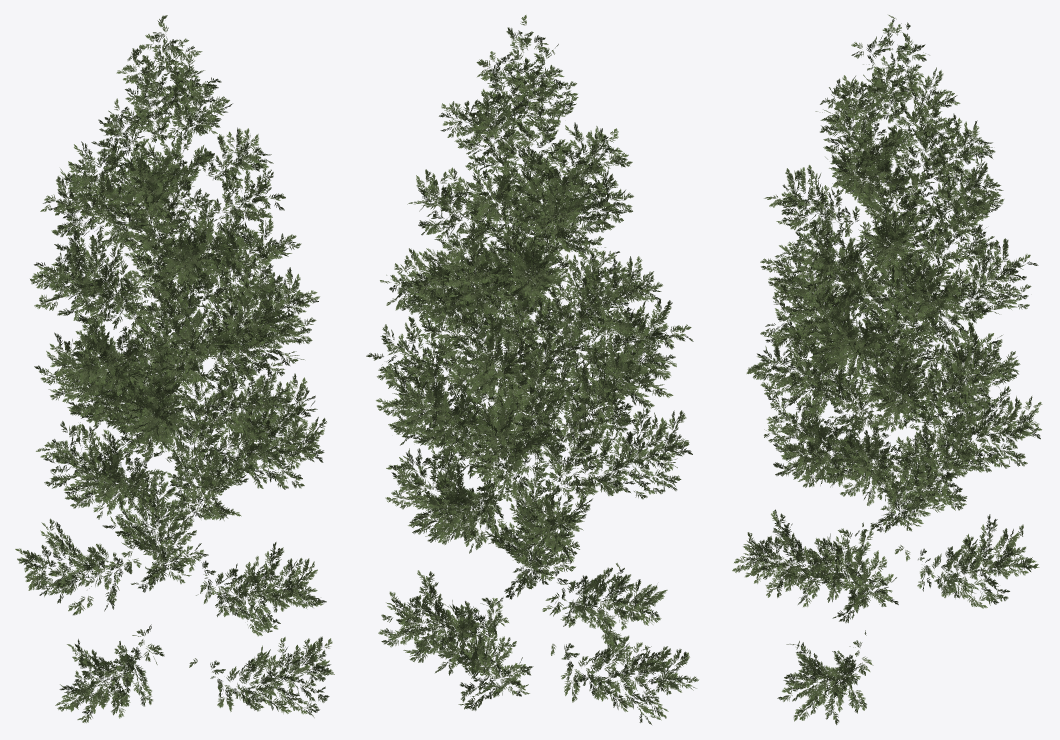
Rendered from MESH_CL04_CalocedrusDecurrens_A_LOD1.fbx.
The picture shows the model from 3 angles, left to right: view 1: azimuth 30°, elevation 25°; view 2: azimuth 150°, elevation 25°; view 3: azimuth 270°, elevation 25°; orthographic projection. The views are drawn at different scales.
Visible parts, largest first — view 1: MI_LOD1_001; view 2: MI_LOD1_001; view 3: MI_LOD1_001.
Boxes of the visible parts, left/top/right/bottom form: MI_LOD1_001: left=15, top=15, right=334, bottom=722; MI_LOD1_001: left=366, top=15, right=698, bottom=724; MI_LOD1_001: left=732, top=15, right=1042, bottom=724.
Size of what is drawn, in the model's own units: 1243 by 2943 by 1248.
